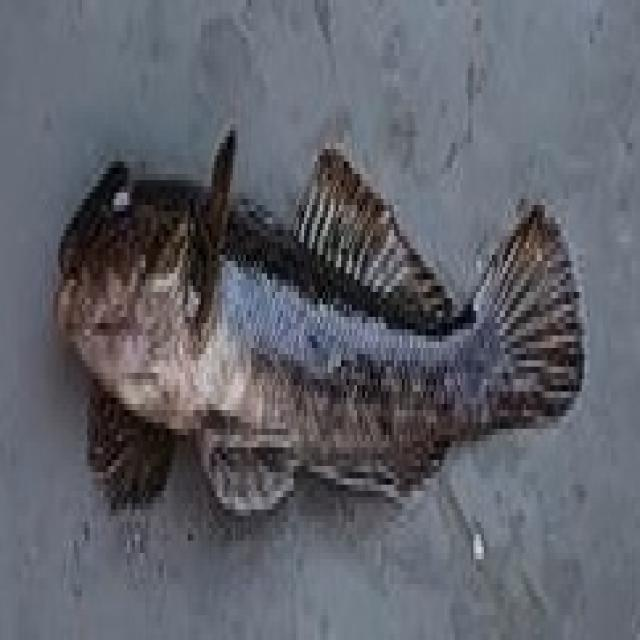Goby: (55, 57, 603, 543)
